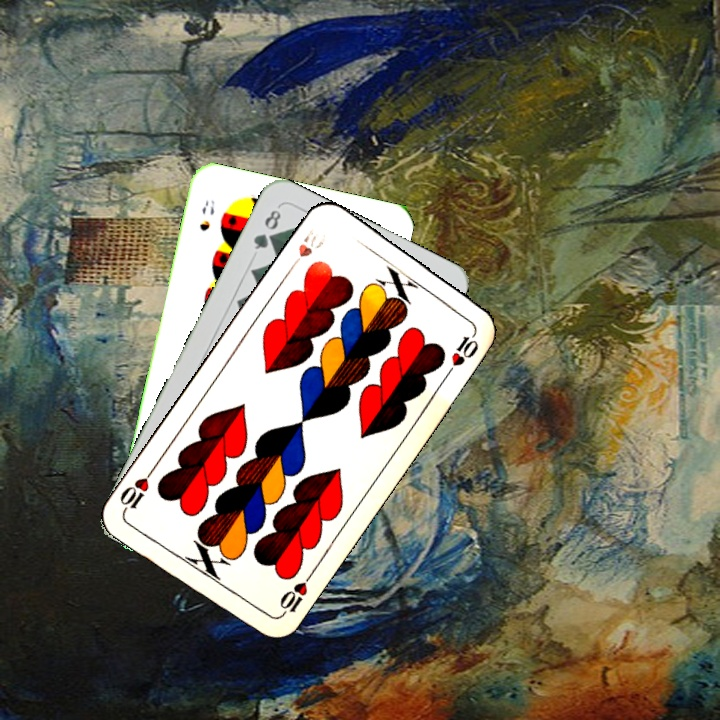G8: (249, 203, 284, 252)
H10: (284, 223, 327, 274), (275, 569, 315, 620)
S8: (195, 196, 217, 234)
